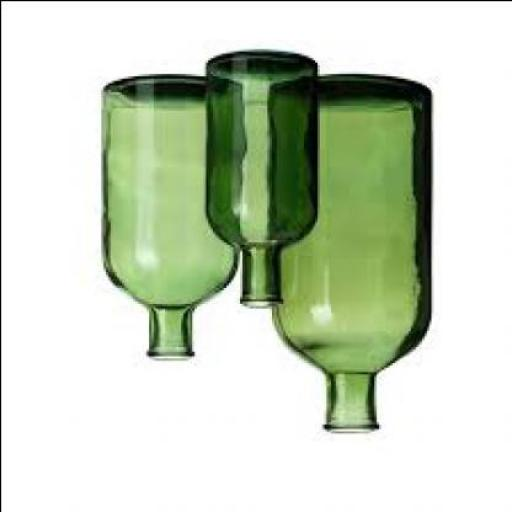glass: (272, 75, 432, 432), (100, 75, 238, 359), (204, 52, 316, 307)
